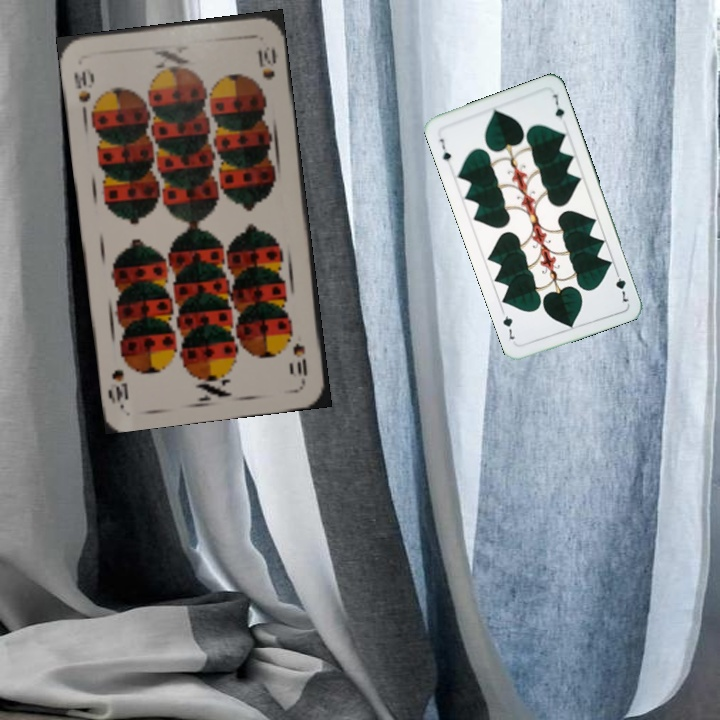G7: (611, 266, 631, 305), (435, 135, 454, 164)
S10: (69, 67, 93, 118), (289, 338, 310, 378)
